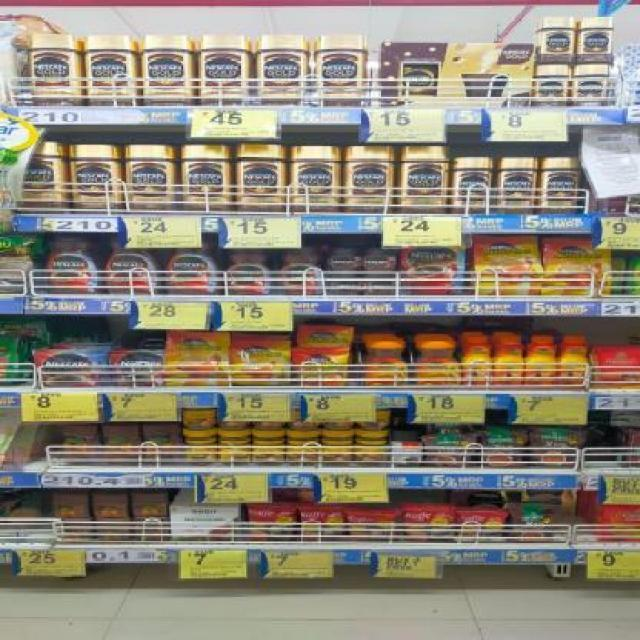Coffee: (543, 238, 611, 296), (475, 236, 539, 295), (400, 242, 466, 296), (167, 331, 229, 387), (105, 235, 162, 295), (45, 234, 99, 295), (20, 142, 64, 215), (72, 145, 118, 214), (31, 36, 75, 107), (201, 36, 245, 106), (87, 37, 131, 106), (144, 37, 188, 106), (319, 37, 363, 106), (129, 145, 173, 214), (239, 145, 283, 214), (293, 146, 339, 212), (403, 146, 447, 215), (261, 35, 303, 107), (166, 236, 218, 294), (182, 145, 226, 213), (345, 146, 389, 214), (232, 340, 291, 384), (225, 247, 272, 296), (362, 341, 410, 388), (276, 247, 322, 296), (40, 351, 101, 387), (416, 342, 462, 388), (498, 157, 534, 215), (293, 348, 347, 386), (111, 351, 165, 387), (456, 158, 490, 215), (543, 158, 577, 214), (560, 336, 589, 386), (581, 17, 613, 61), (543, 18, 574, 62), (496, 336, 523, 385), (528, 337, 555, 386), (577, 64, 607, 107), (465, 337, 491, 386), (538, 66, 568, 107), (326, 247, 360, 271), (325, 272, 359, 296), (364, 273, 398, 295), (365, 249, 398, 271)
